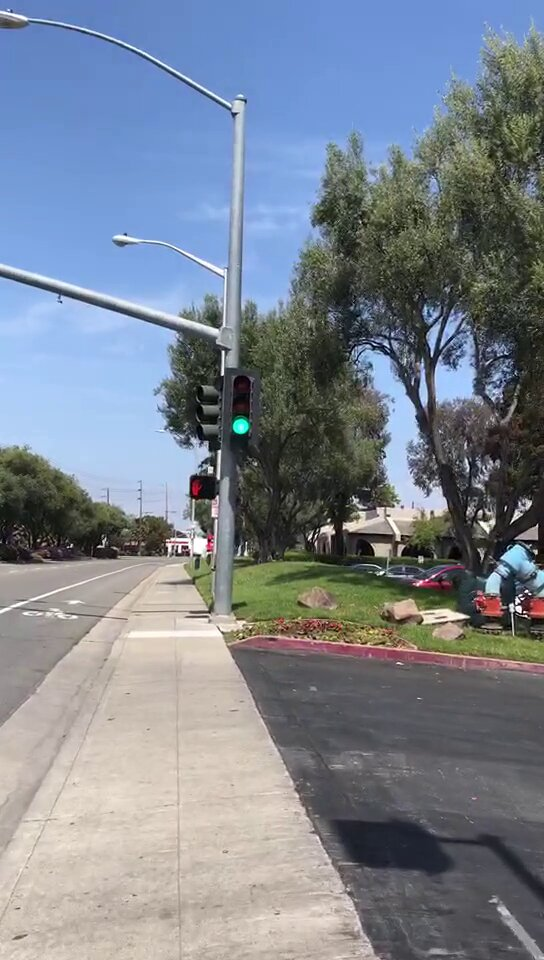green_light: (225, 368, 260, 441)
